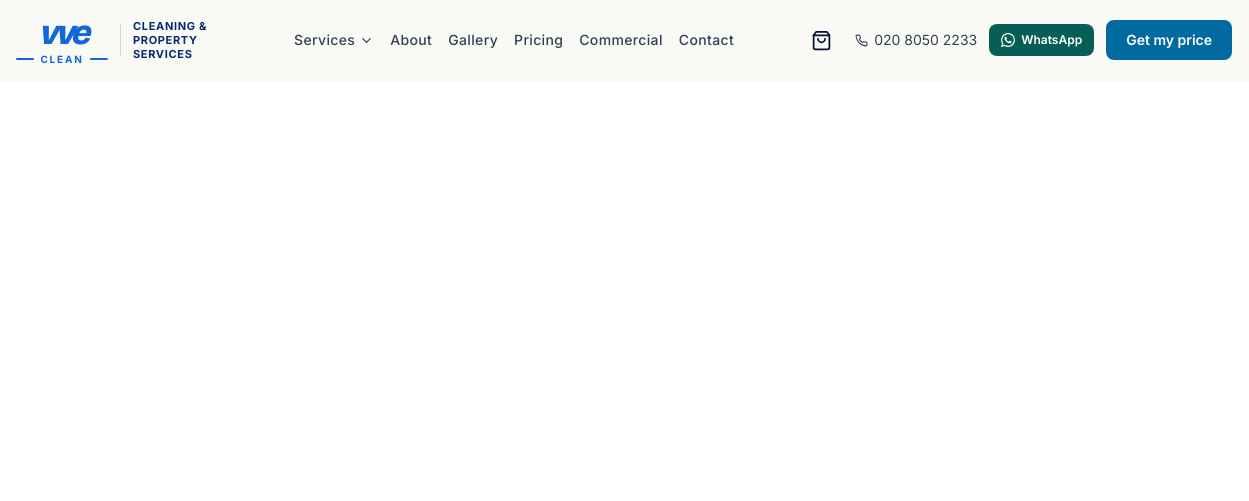
Navbar service navigation › opens an accessible desktop menu with direct links to every core service page
The image size is (1249, 501).
Click the button "Services": coordinates (334, 40) left=294, top=18, right=374, bottom=62
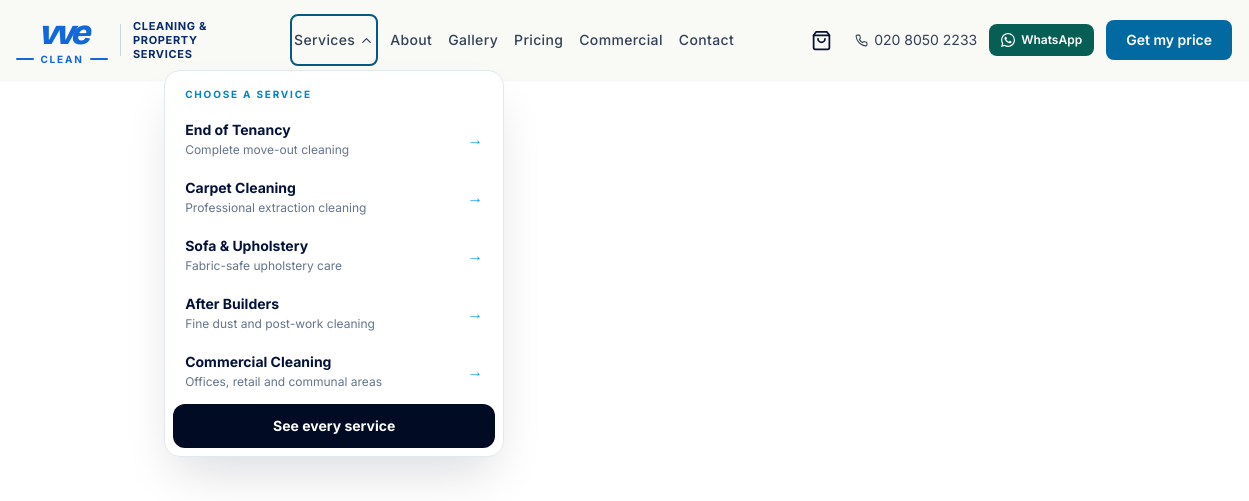
Check: the button "Services" is expanded, box left=294, top=18, right=374, bottom=62
